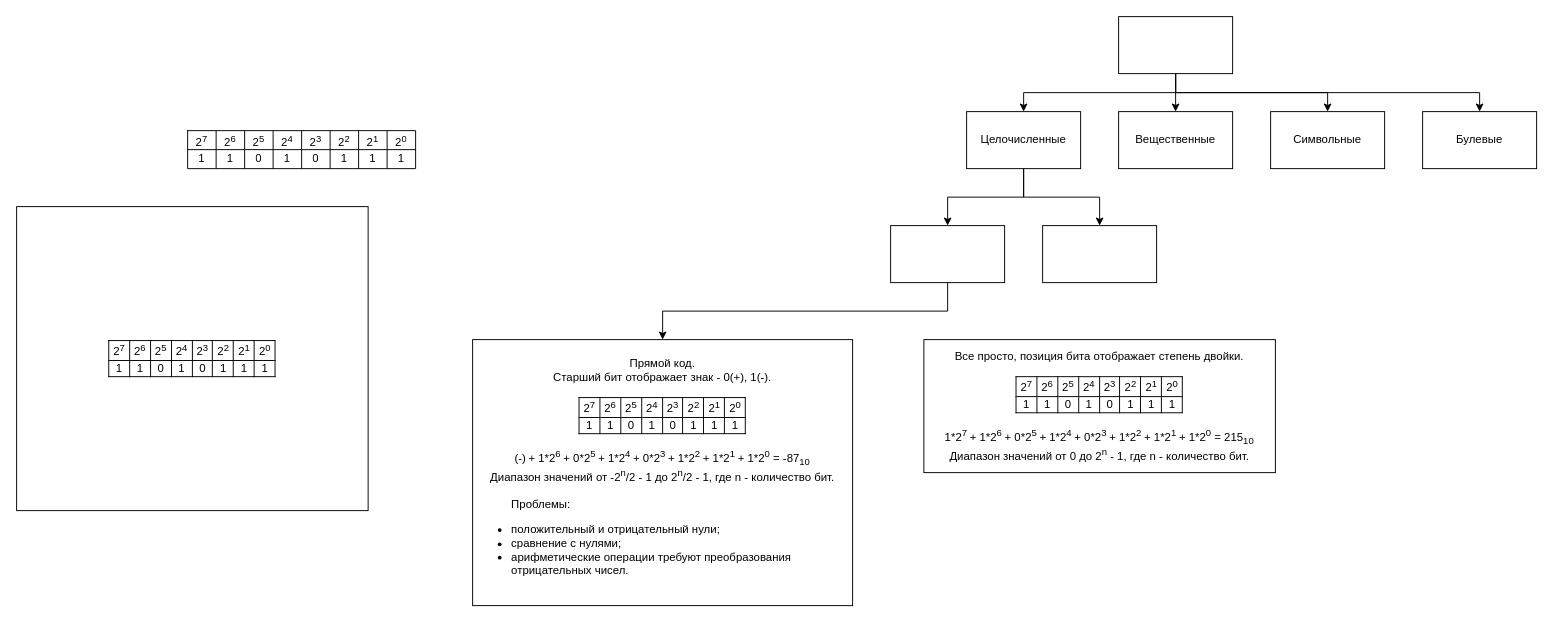
Image size: 1553x622. Some labels were removed from this diagram. The shapes that lost their labels are listed below. From the top down, each one's box as (x1, y1, x2, y2) in pixels, then its label:
(1118, 16, 1233, 74): Данные
(890, 225, 1005, 283): Signed
(1042, 225, 1157, 283): Unsigned
